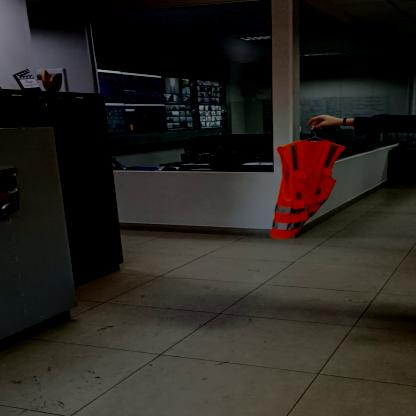colete: (270, 136, 342, 242)
